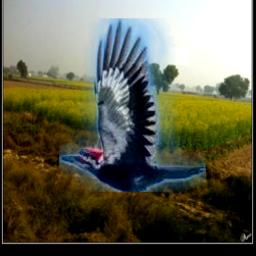Woodpecker: (59, 18, 206, 192)
